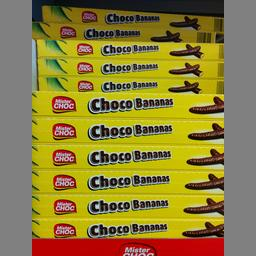chocolate: (31, 90, 223, 116), (31, 116, 223, 142), (31, 145, 224, 170), (31, 194, 223, 218), (31, 170, 223, 193), (30, 218, 222, 236)
